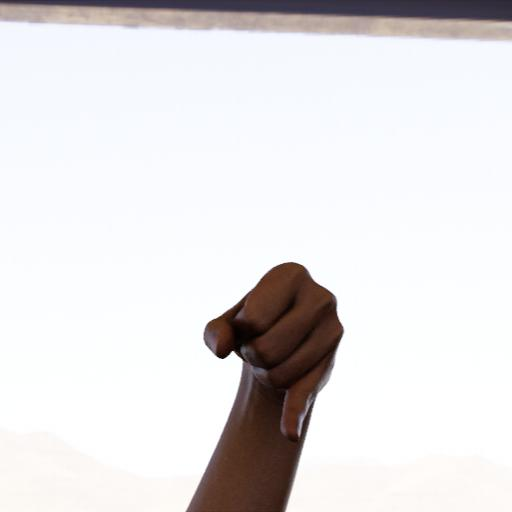J: (198, 252, 355, 452)
